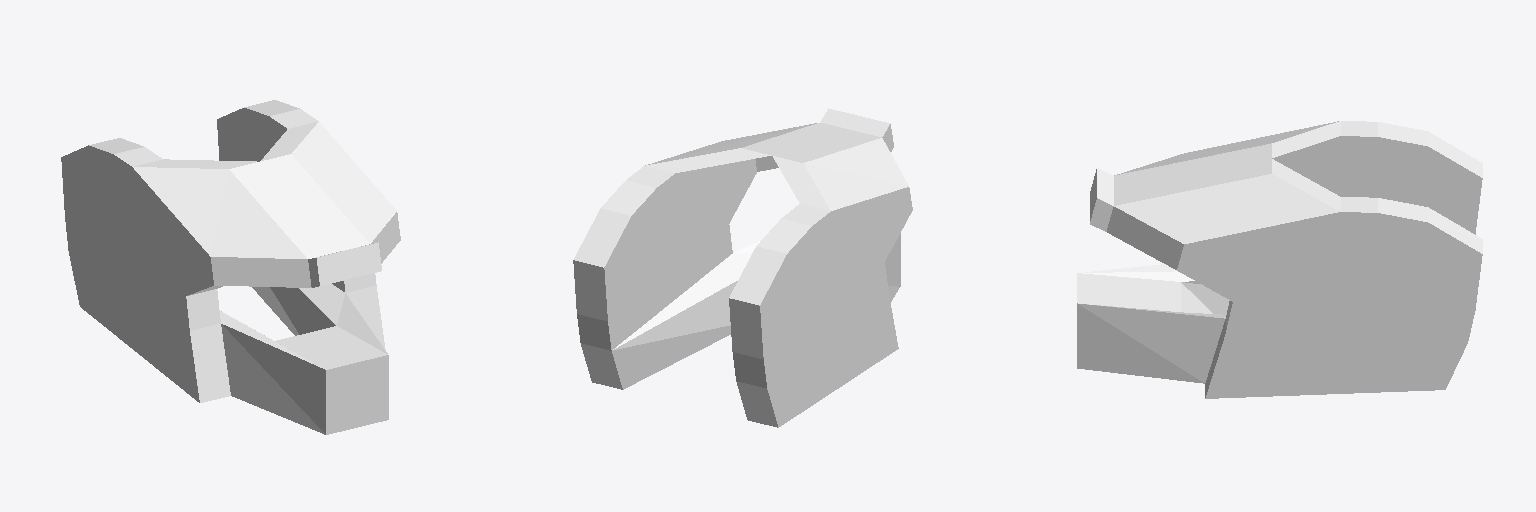
File: ShipPlaceholder.obj
3 views of the same model, side by side, from view 1: azimuth 30°, elevation 25°; view 2: azimuth 150°, elevation 25°; view 3: azimuth 270°, elevation 25° (orthographic).
Visible parts, largest first — view 1: ShipPlaceholder; view 2: ShipPlaceholder; view 3: ShipPlaceholder.
Part boxes in pixels (bbox=[...]): ShipPlaceholder: bbox=[61, 100, 400, 434]; ShipPlaceholder: bbox=[573, 108, 912, 427]; ShipPlaceholder: bbox=[1077, 121, 1482, 398].
Size of the model in its own units: 3 by 2.99 by 5.64.